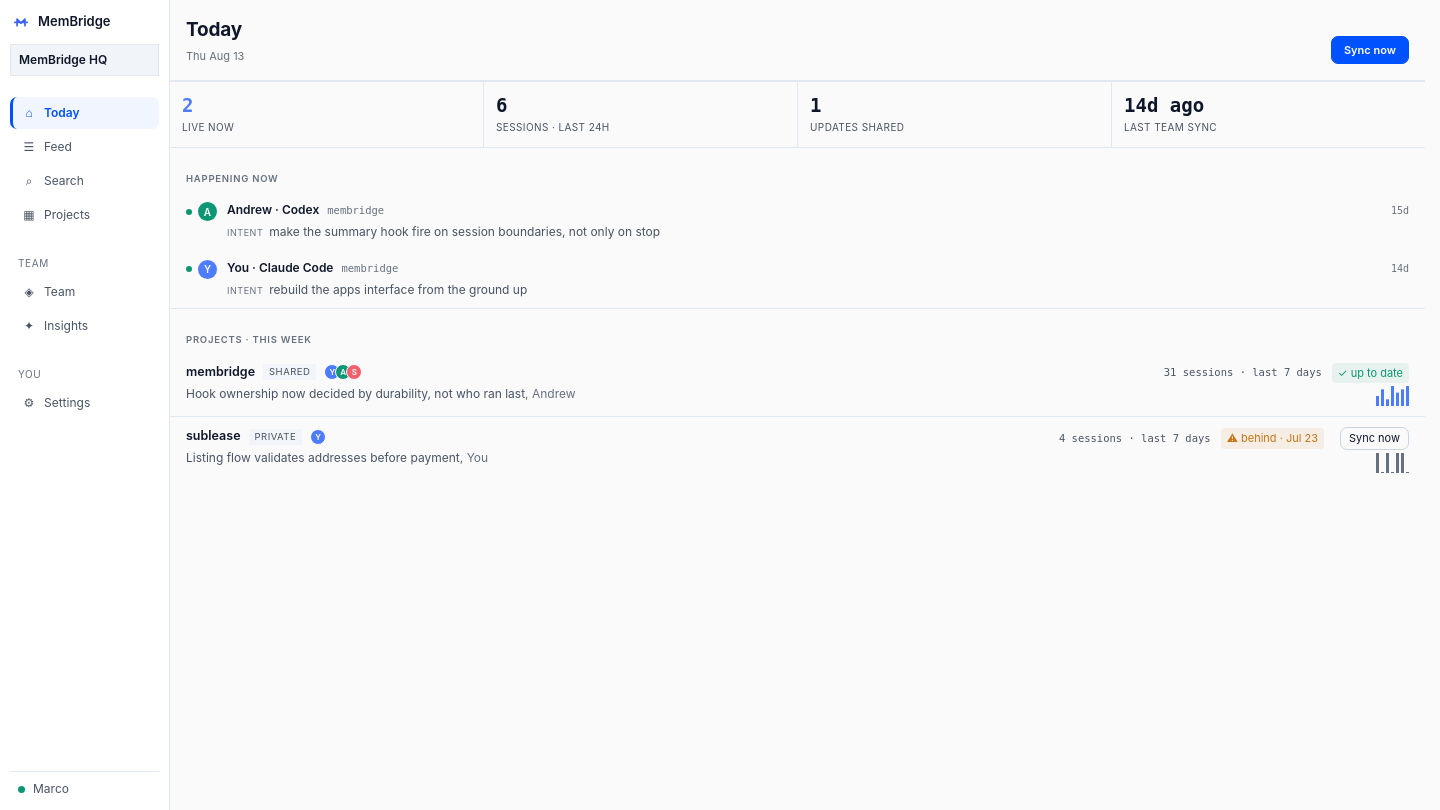
Shell › rail footer identity › opens the identity editor on a double-click of your name
Step 1. Double-click the button with test id "rail-identity" → (51, 789), box [33,780,69,798]
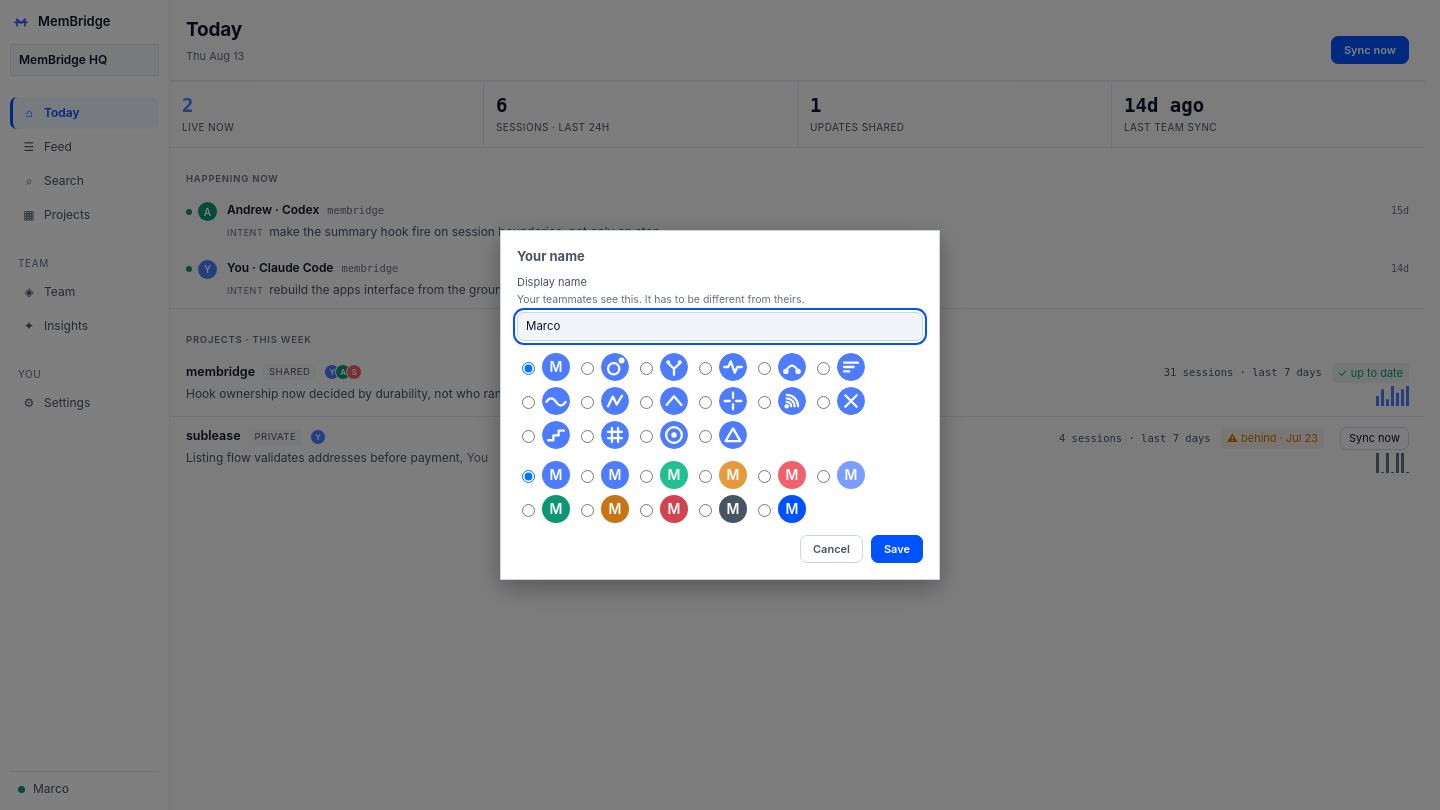
Expected: the dialog "Your name" is shown, [500,230,940,580]
